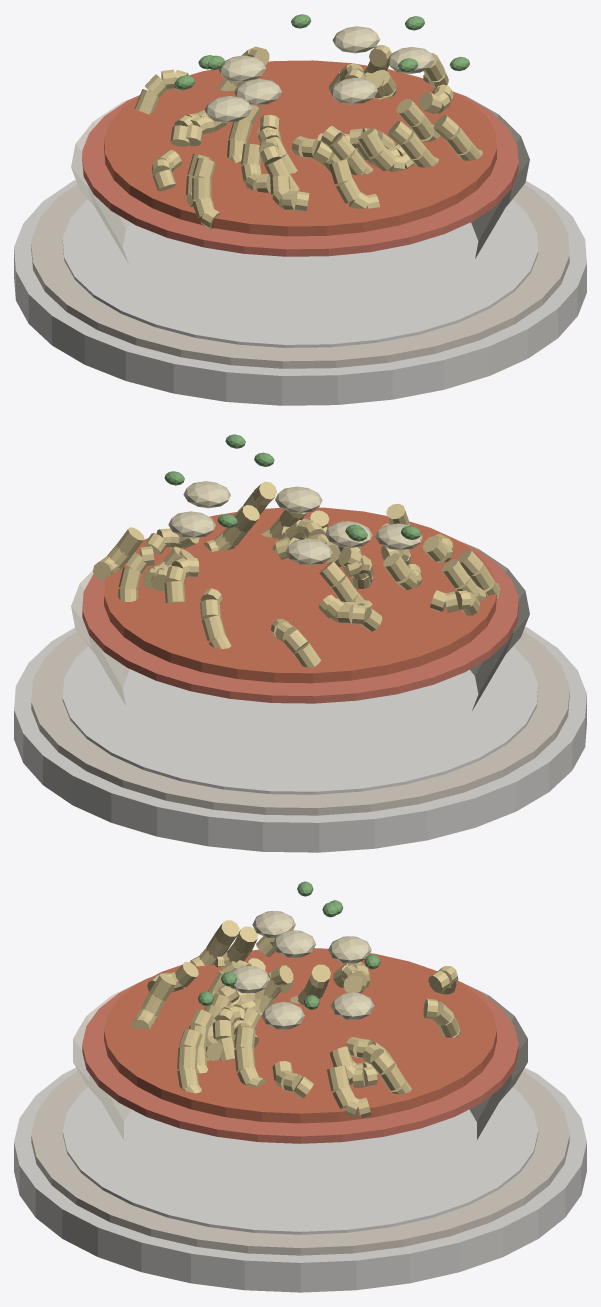
File: mi_y_cay.glb
3 views of the same model, one above another, from view 1: azimuth 30°, elevation 25°; view 2: azimuth 150°, elevation 25°; view 3: azimuth 270°, elevation 25° (orthographic).
Parts seen in each view (by area): view 1: obj_0002, obj_0005, obj_0000, obj_0001, obj_0004, obj_0003, obj_0126, obj_0129, obj_0130, obj_0131, obj_0127, obj_0128 (+1 smaller); view 2: obj_0002, obj_0005, obj_0000, obj_0001, obj_0004, obj_0003, obj_0126, obj_0128, obj_0129, obj_0131, obj_0130, obj_0127; view 3: obj_0002, obj_0005, obj_0000, obj_0001, obj_0004, obj_0003, obj_0127, obj_0128, obj_0126, obj_0131, obj_0130, obj_0129.
Part boxes in pixels (x1=…): obj_0002: x1=62, y1=199, x2=538, y2=347; obj_0005: x1=104, y1=60, x2=496, y2=236; obj_0000: x1=14, y1=180, x2=586, y2=405; obj_0001: x1=31, y1=184, x2=569, y2=368; obj_0004: x1=82, y1=92, x2=518, y2=256; obj_0003: x1=71, y1=93, x2=529, y2=263; obj_0126: x1=332, y1=26, x2=380, y2=53; obj_0129: x1=330, y1=77, x2=377, y2=104; obj_0130: x1=204, y1=96, x2=251, y2=122; obj_0131: x1=218, y1=55, x2=265, y2=82; obj_0127: x1=234, y1=78, x2=281, y2=105; obj_0128: x1=387, y1=47, x2=434, y2=73; obj_0002: x1=62, y1=646, x2=538, y2=794; obj_0005: x1=104, y1=507, x2=496, y2=683; obj_0000: x1=14, y1=626, x2=586, y2=852; obj_0001: x1=31, y1=631, x2=569, y2=815; obj_0004: x1=82, y1=539, x2=518, y2=703; obj_0003: x1=71, y1=542, x2=529, y2=710; obj_0126: x1=168, y1=511, x2=215, y2=538; obj_0128: x1=183, y1=481, x2=230, y2=508; obj_0129: x1=275, y1=486, x2=322, y2=513; obj_0131: x1=285, y1=538, x2=332, y2=565; obj_0130: x1=375, y1=523, x2=422, y2=550; obj_0127: x1=325, y1=521, x2=372, y2=548; obj_0002: x1=62, y1=1087, x2=538, y2=1234; obj_0005: x1=104, y1=948, x2=496, y2=1123; obj_0000: x1=14, y1=1067, x2=586, y2=1292; obj_0001: x1=31, y1=1070, x2=569, y2=1255; obj_0004: x1=82, y1=977, x2=518, y2=1143; obj_0003: x1=73, y1=977, x2=527, y2=1139; obj_0127: x1=272, y1=930, x2=315, y2=957; obj_0128: x1=261, y1=1002, x2=304, y2=1029; obj_0126: x1=331, y1=992, x2=374, y2=1019; obj_0131: x1=328, y1=936, x2=371, y2=963; obj_0130: x1=252, y1=911, x2=295, y2=938; obj_0129: x1=230, y1=966, x2=270, y2=993.
Bounding box in the file's own units: 2.1 × 0.945 × 2.1.
